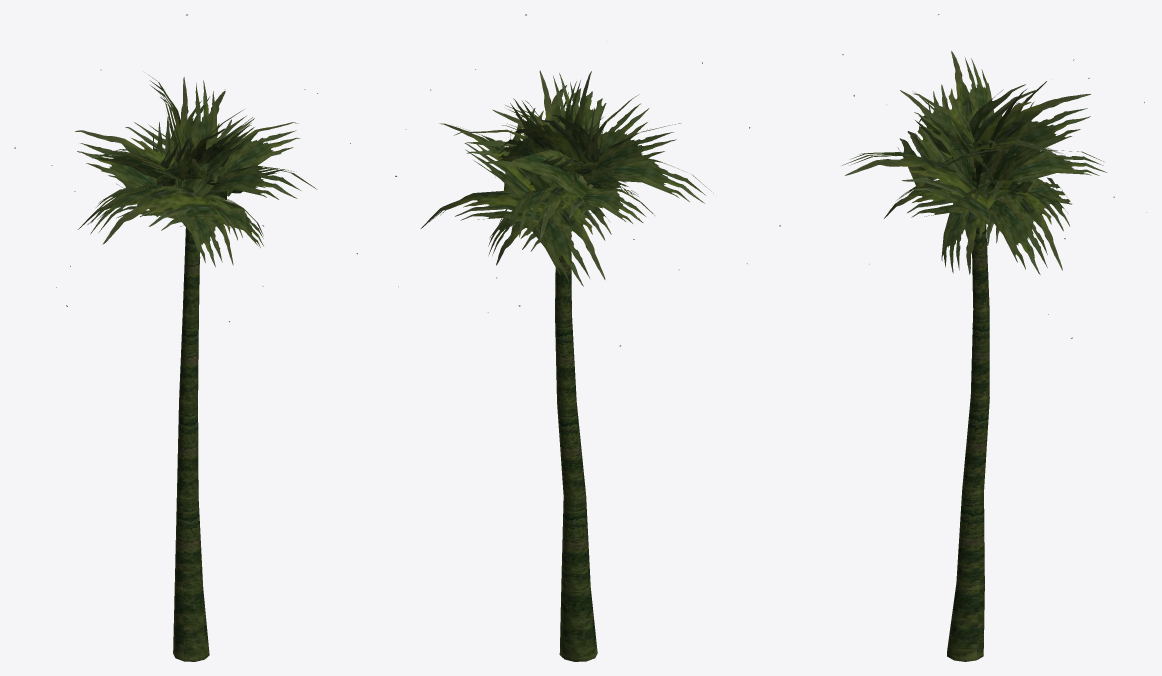
The model's file is p_palm3.glb.
The picture shows the model from 3 angles, left to right: view 1: azimuth 30°, elevation 25°; view 2: azimuth 150°, elevation 25°; view 3: azimuth 270°, elevation 25°; orthographic projection. The views are drawn at different scales.
Parts seen in each view (by area): view 1: Palm-03_0_0; view 2: Palm-03_0_0; view 3: Palm-03_0_0.
Part boxes in pixels (x1,y1,x2,y2): Palm-03_0_0: [14, 14, 357, 661]; Palm-03_0_0: [395, 14, 750, 661]; Palm-03_0_0: [779, 14, 1144, 661].
Size of the model in its own units: 3.72 by 6.63 by 3.57.
1 material, 1 textured.
